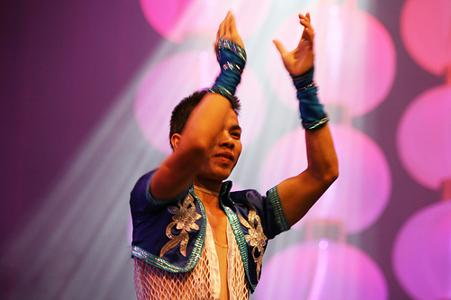person: (129, 11, 339, 300)
